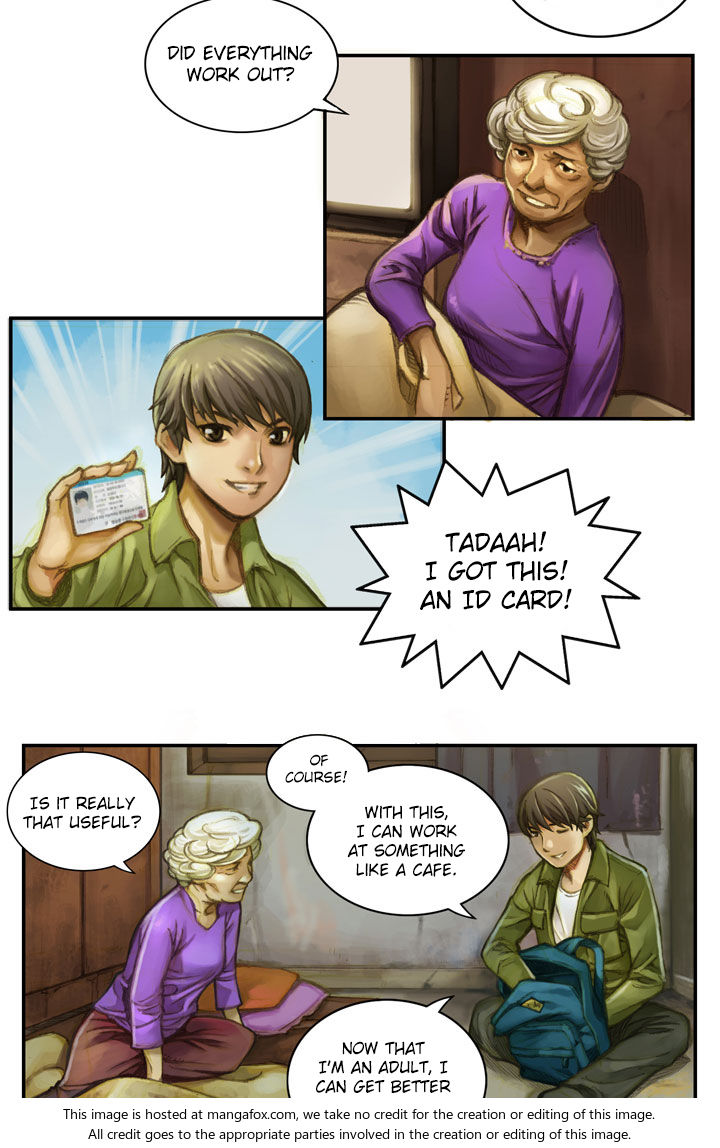bubble: (352, 459, 641, 687), (306, 766, 510, 918), (144, 0, 347, 133), (287, 996, 487, 1099), (7, 752, 160, 874), (265, 734, 370, 810), (514, 0, 685, 36)
